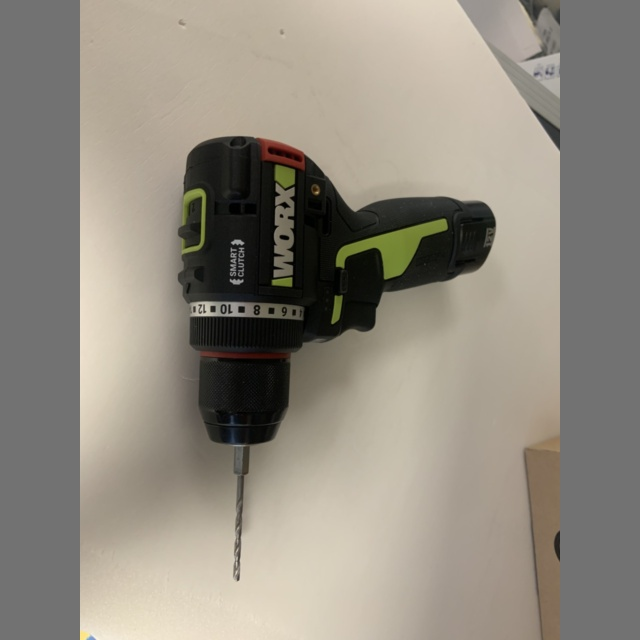drill: (178, 136, 496, 579)
